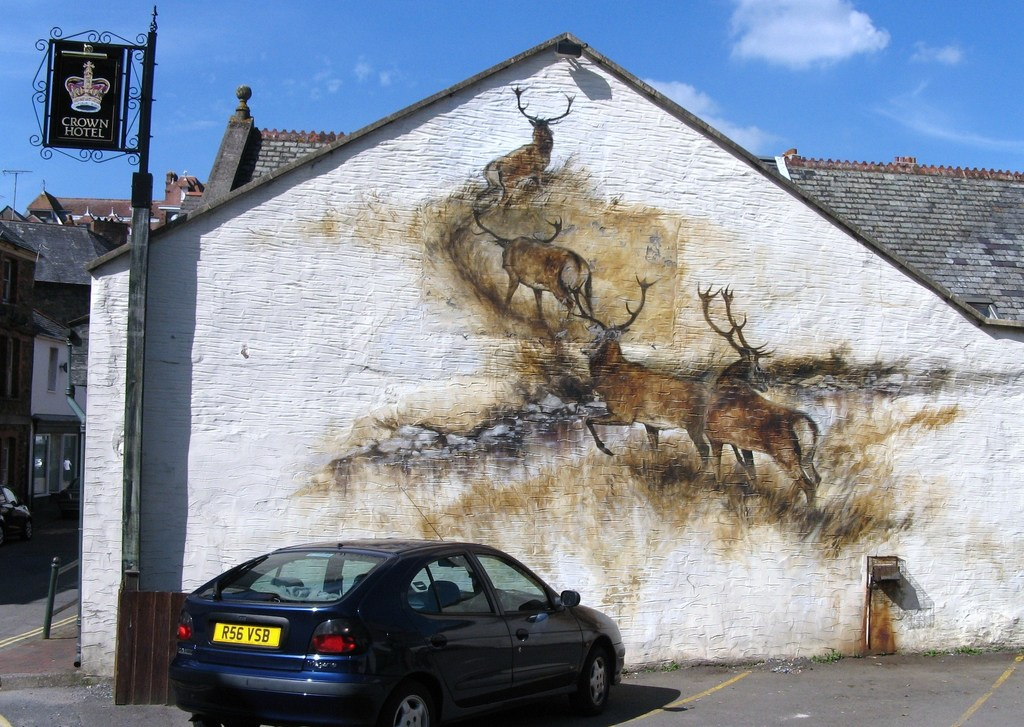Car: (165, 543, 641, 725)
